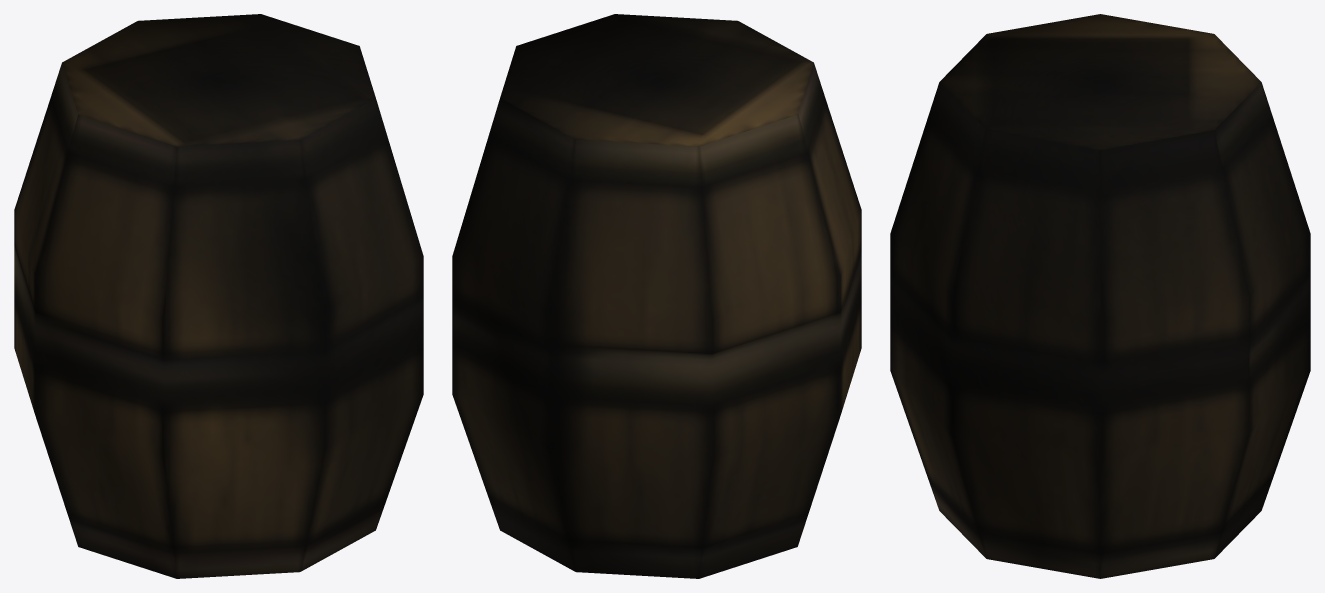
File: barrel 3.fbx
The picture shows the model from 3 angles, left to right: view 1: azimuth 30°, elevation 25°; view 2: azimuth 150°, elevation 25°; view 3: azimuth 270°, elevation 25°; orthographic projection.
Visible parts, largest first — view 1: Barrel; view 2: Barrel; view 3: Barrel.
Part boxes in pixels (x1,y1,x2,y2): Barrel: (14, 14, 423, 578); Barrel: (452, 14, 861, 578); Barrel: (890, 14, 1310, 578).
Bounding box in the file's own units: 0.7588 × 0.8536 × 0.7588.
